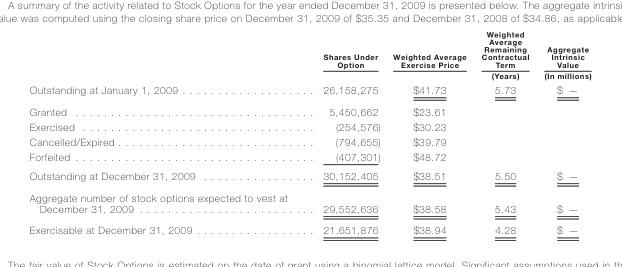table: (28, 29, 590, 235)
table column: (28, 29, 304, 235), (386, 29, 473, 235), (304, 29, 386, 235), (473, 29, 535, 235), (535, 29, 590, 235)
table column header: (28, 29, 590, 81)
table row: (28, 29, 590, 81), (28, 186, 590, 219), (28, 166, 590, 186), (28, 81, 590, 100), (28, 100, 590, 118), (28, 149, 590, 166), (28, 133, 590, 149), (28, 219, 590, 235), (28, 118, 590, 133)
